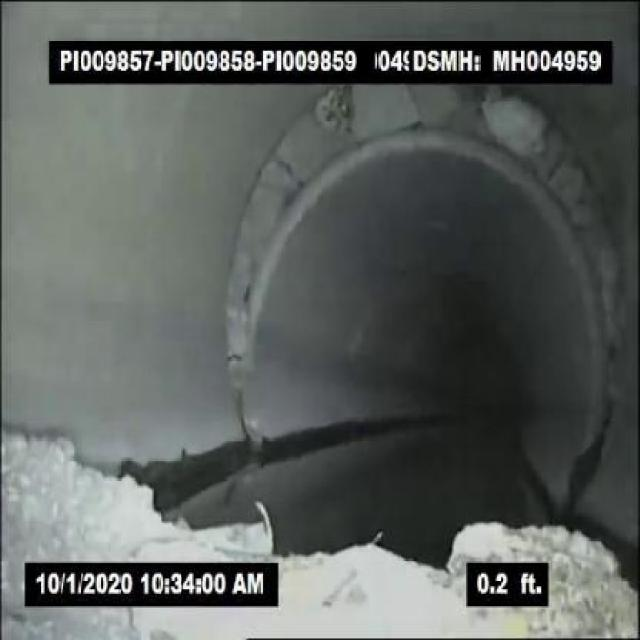Debris: (9, 417, 194, 558), (442, 516, 636, 636)
Joint offset: (252, 88, 572, 198), (544, 205, 636, 383), (209, 222, 280, 382)
